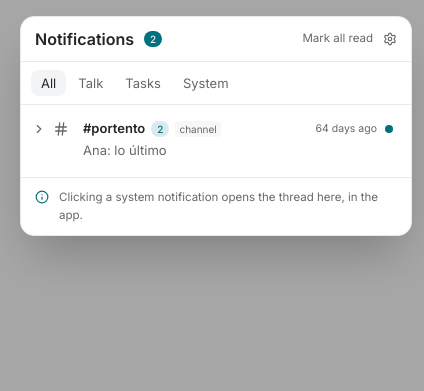
Test: plegar lo del mismo sitio › volver a pulsar la cierra
What coordinates should you click on to do the following:
click the button named "Expand "
I would click on:
 (39, 129)
Its box is [29,119,49,139].
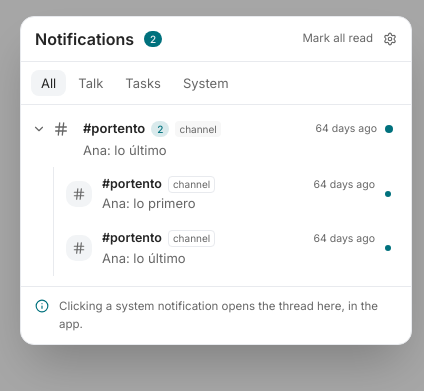
What coordinates should you click on to do the following:
click the button named "Collapse "
I would click on:
 (39, 129)
Its box is [29,119,49,139].
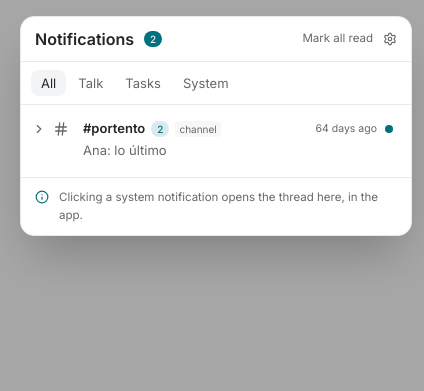
Result: the button "Ana: lo primero" is gone
